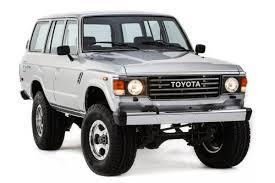toyota: (169, 79, 203, 88)
